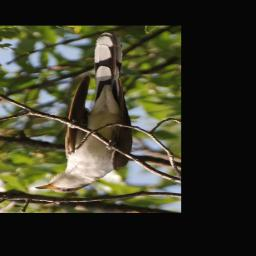Cuckoo: (34, 31, 135, 194)
